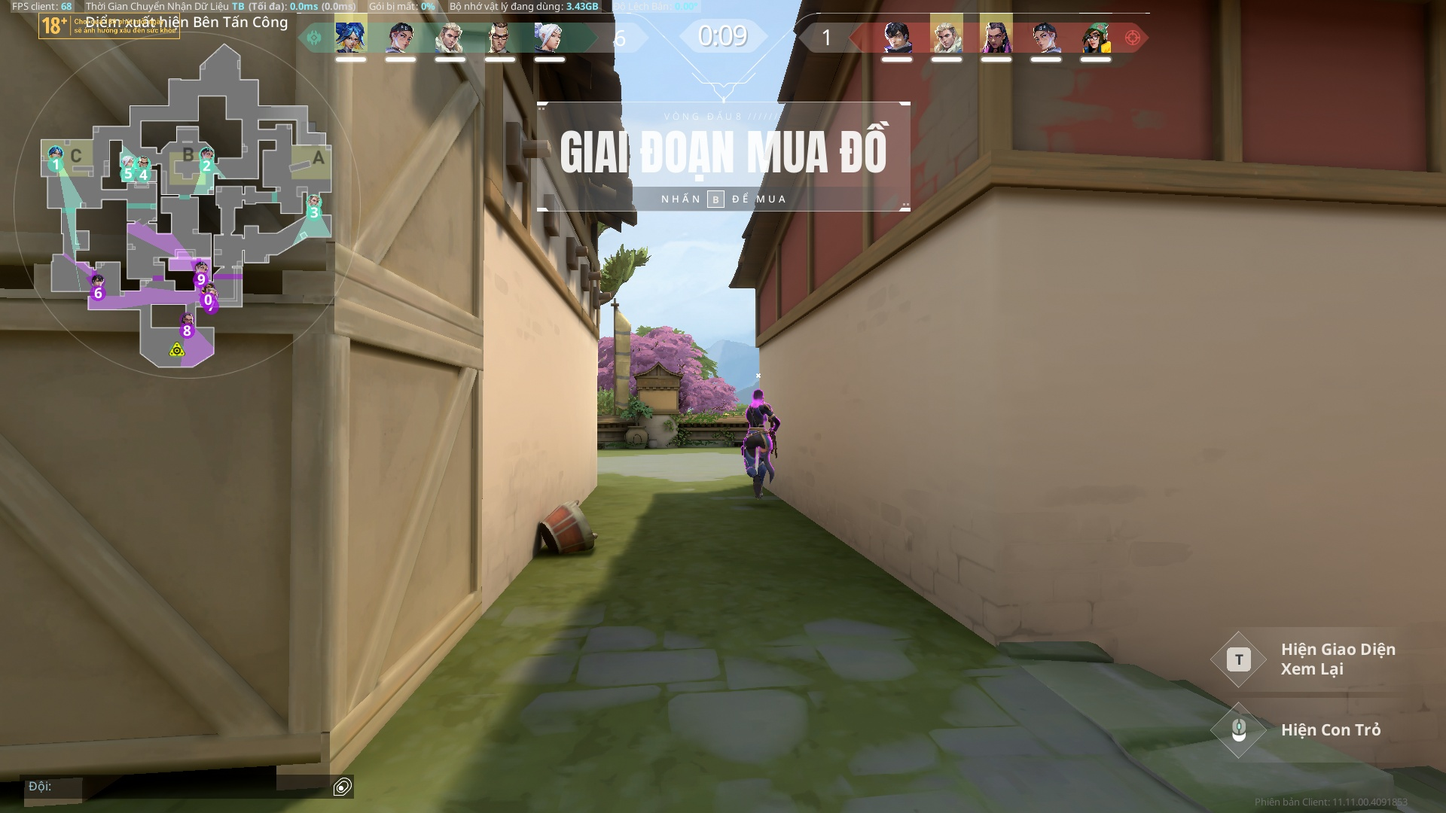body: (743, 403, 770, 425)
head: (750, 388, 766, 402)
